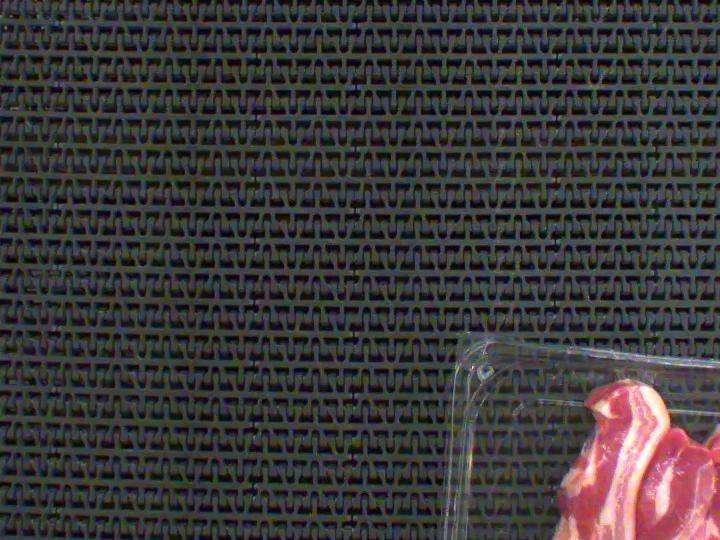packaging-error: (609, 364, 660, 390)
